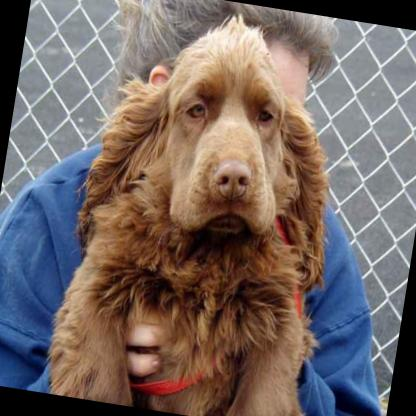Sussex_spaniel: (43, 0, 364, 416)
